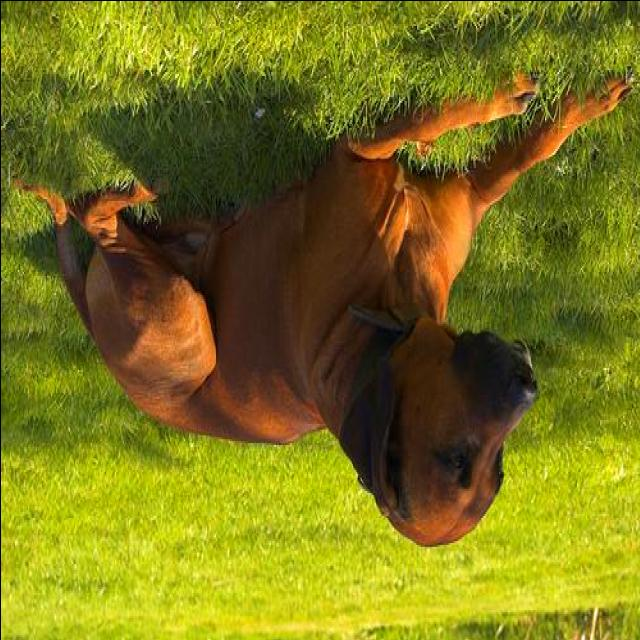rhodesian_ridgeback: (5, 64, 638, 552)
